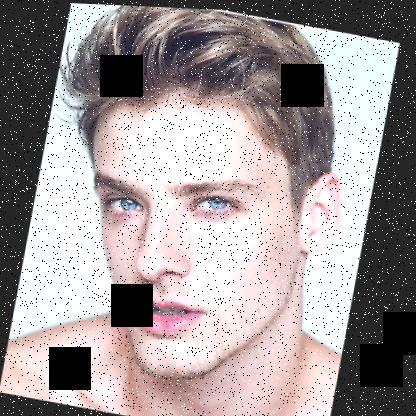Male: (49, 65, 362, 400)
